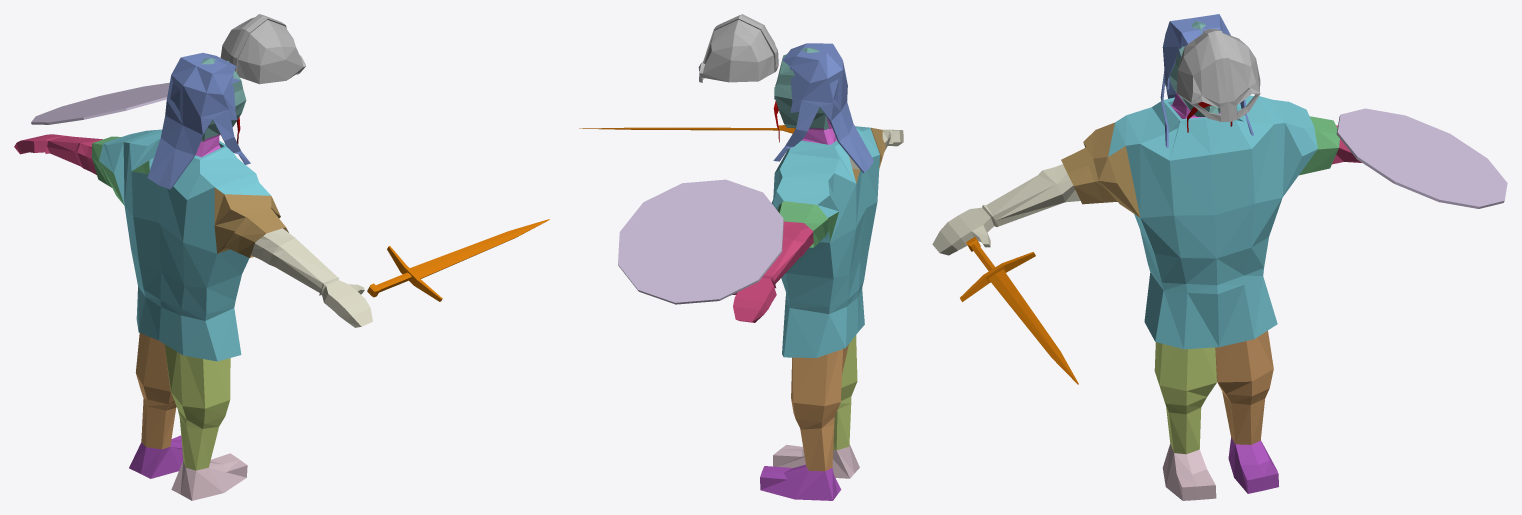
File: full_28.glb
3 renders of one model, left to right at view 1: azimuth 30°, elevation 25°; view 2: azimuth 150°, elevation 25°; view 3: azimuth 270°, elevation 25°, orthographic. The views are drawn at different scales.
Parts seen in each view (by area): view 1: world; view 2: world; view 3: world.
Boxes of the visible parts, x1=… form: world: x1=14, y1=14, x2=549, y2=500; world: x1=579, y1=14, x2=903, y2=500; world: x1=932, y1=14, x2=1507, y2=500.
Bounding box in the file's own units: 0.4987 × 0.5932 × 0.632.
